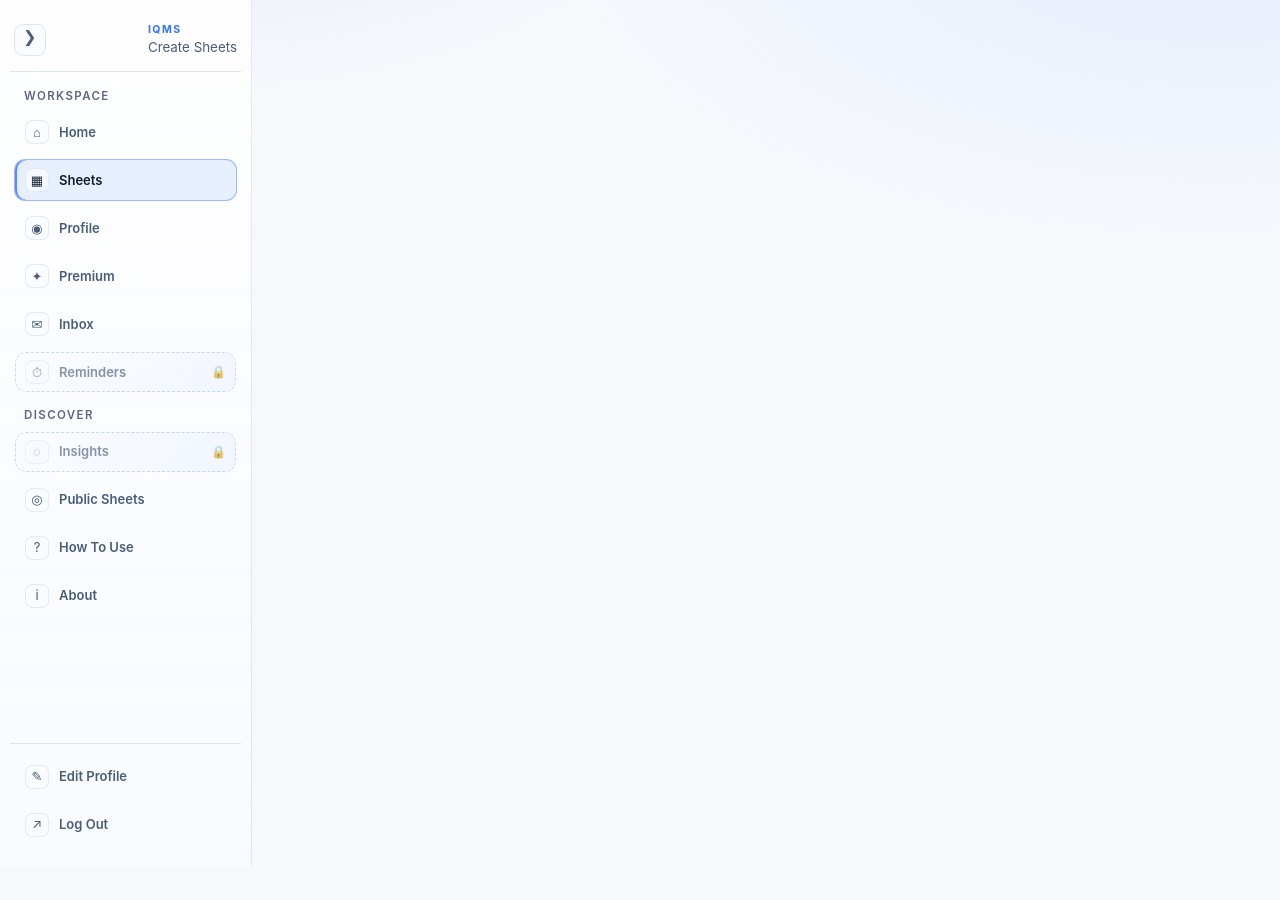
Test: Sidebar inbox navigation › shows premium popup instead of navigating when reminders is locked
This screenshot has width=1280, height=900.
Step 1. Click the button named "Reminders (Premium)" → (126, 372), box [14, 352, 237, 394]
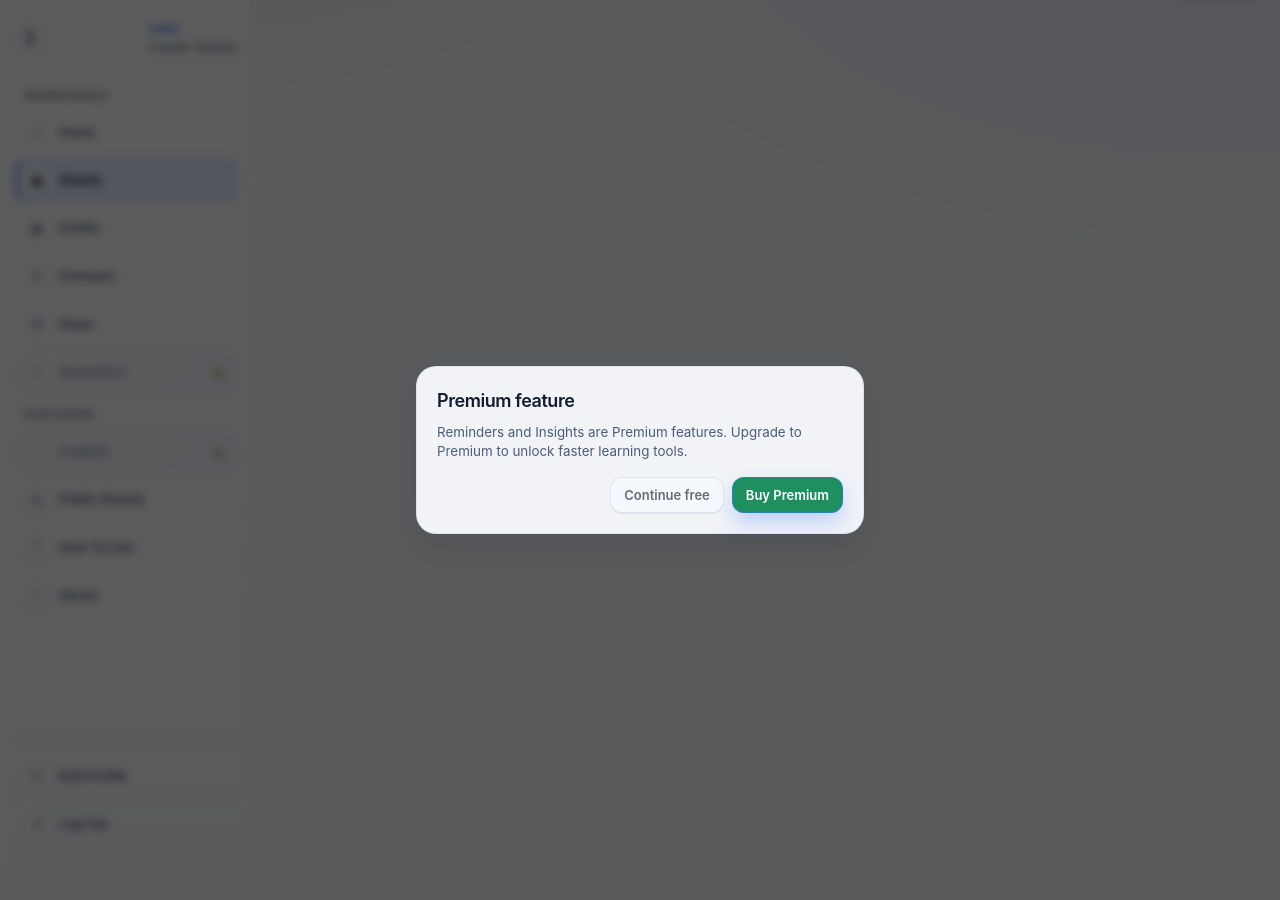
Now the heading "Premium feature" is shown, box [437, 390, 574, 411]
